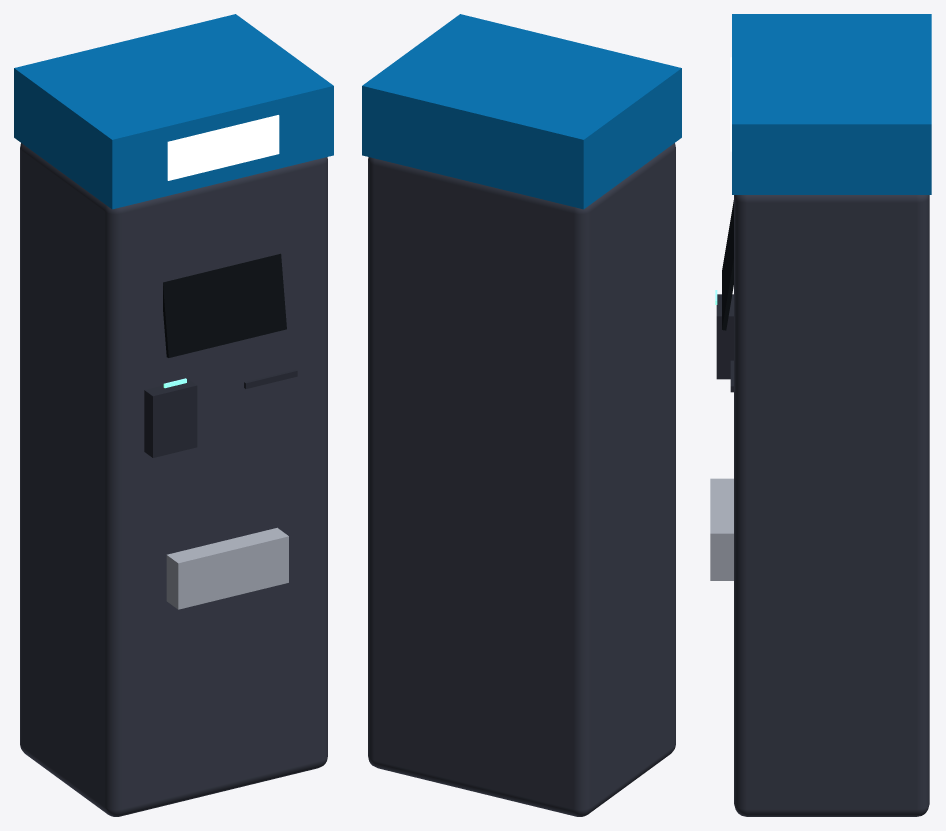
The model's file is prk-006.glb.
The picture shows the model from 3 angles, left to right: view 1: azimuth 30°, elevation 25°; view 2: azimuth 150°, elevation 25°; view 3: azimuth 270°, elevation 25°; orthographic projection.
Visible parts, largest first — view 1: dark_steel, safety_blue, monitor_screen, steel, display_white, plastic_dark; view 2: dark_steel, safety_blue; view 3: dark_steel, safety_blue, steel, plastic_dark, monitor_screen.
Part boxes in pixels (bbox=[...]): dark_steel: bbox=[20, 143, 327, 816]; safety_blue: bbox=[14, 14, 333, 209]; monitor_screen: bbox=[163, 253, 286, 357]; steel: bbox=[166, 527, 288, 609]; display_white: bbox=[167, 115, 279, 180]; plastic_dark: bbox=[144, 369, 297, 457]; dark_steel: bbox=[368, 143, 675, 816]; safety_blue: bbox=[362, 14, 681, 209]; dark_steel: bbox=[734, 195, 929, 816]; safety_blue: bbox=[732, 14, 931, 194]; steel: bbox=[710, 478, 733, 580]; plastic_dark: bbox=[716, 294, 733, 392]; monitor_screen: bbox=[722, 200, 733, 330].
Bounding box in the file's own units: 0.6 × 1.77 × 0.51.
